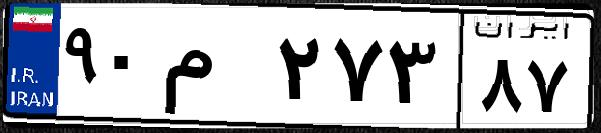0: (110, 28, 158, 98)
2: (270, 28, 330, 110)
3: (385, 28, 445, 110)
7: (330, 28, 385, 110), (525, 38, 570, 115)
8: (475, 38, 525, 113)
9: (57, 26, 110, 100)
م: (158, 20, 270, 120)
